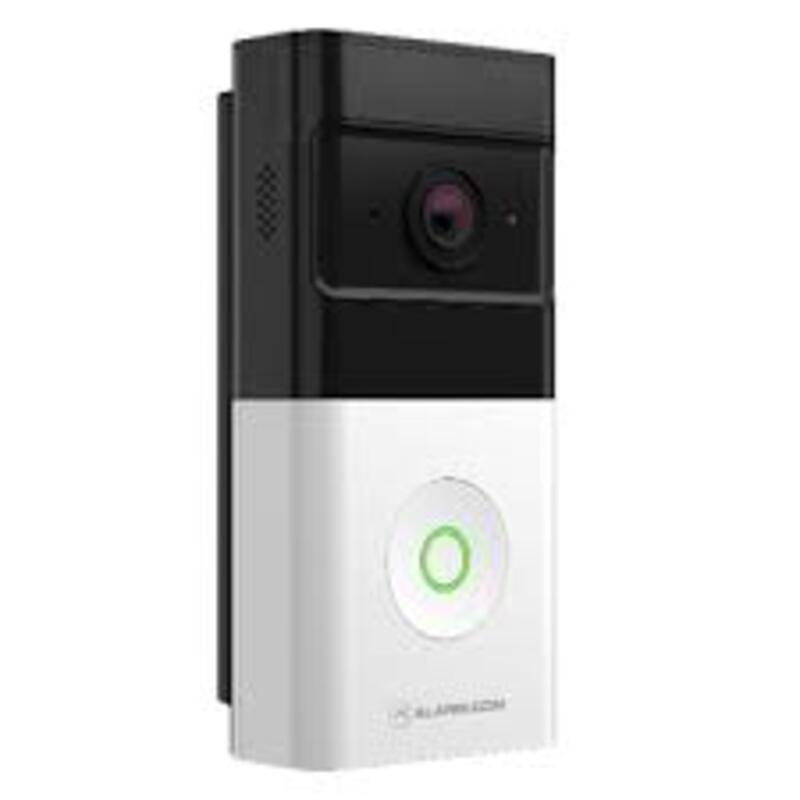doorbell: (205, 34, 575, 776)
